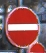No entry: (6, 5, 41, 48)
